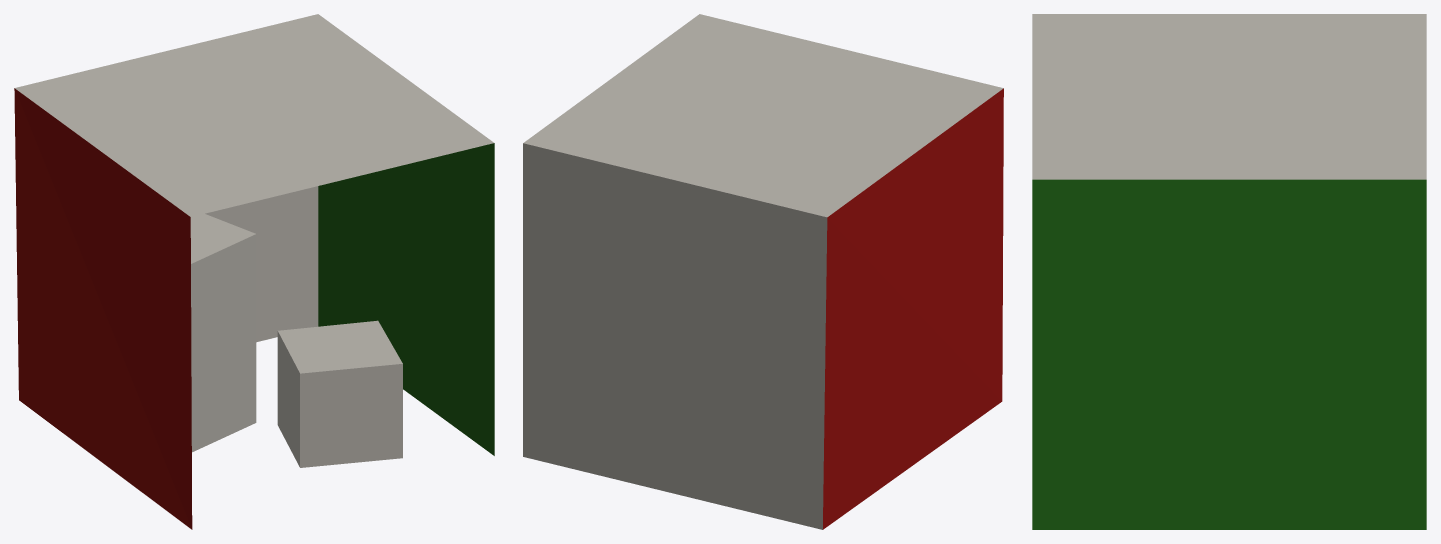
The model's file is cornellbox.obj.
3 views of the same model, side by side, from view 1: azimuth 30°, elevation 25°; view 2: azimuth 150°, elevation 25°; view 3: azimuth 270°, elevation 25° (orthographic). The views are drawn at different scales.
Visible parts, largest first — view 1: leftWall, ceiling, rightWall, shortBox, tallBox, backWall; view 2: backWall, leftWall, ceiling; view 3: rightWall, ceiling.
Boxes of the visible parts, x1=… form: leftWall: x1=14, y1=88, x2=192, y2=529; ceiling: x1=15, y1=14, x2=493, y2=216; rightWall: x1=318, y1=143, x2=494, y2=455; shortBox: x1=277, y1=320, x2=402, y2=467; tallBox: x1=190, y1=213, x2=256, y2=452; backWall: x1=205, y1=186, x2=318, y2=342; backWall: x1=523, y1=143, x2=827, y2=529; leftWall: x1=823, y1=88, x2=1003, y2=529; ceiling: x1=523, y1=14, x2=1003, y2=217; rightWall: x1=1032, y1=179, x2=1426, y2=529; ceiling: x1=1032, y1=14, x2=1426, y2=179.
Size of what is drawn, in the model's own units: 2.02 by 1.99 by 2.03.
